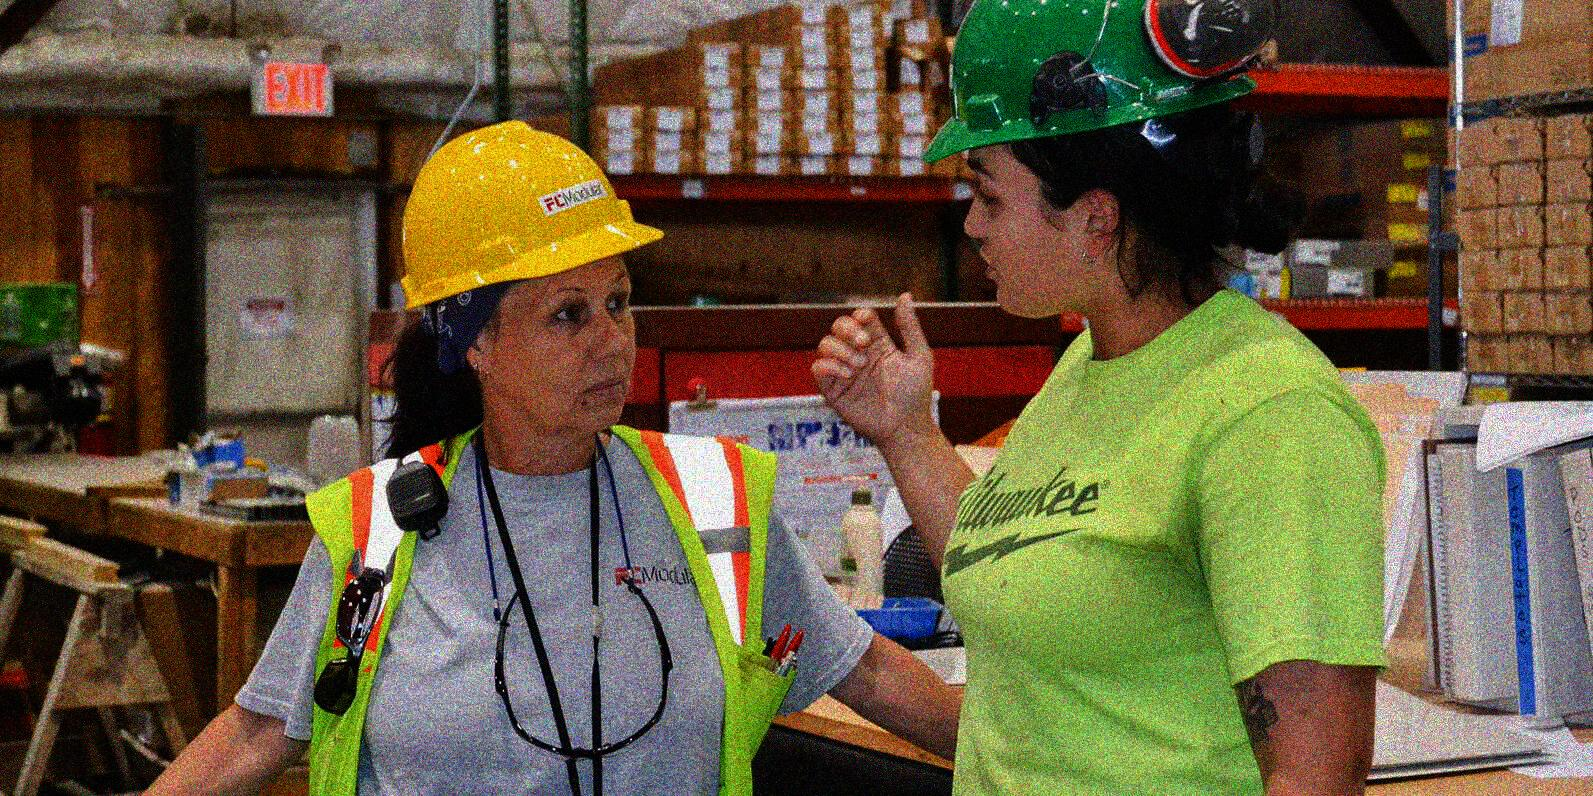helmet: (915, 1, 1266, 322), (397, 117, 668, 426)
